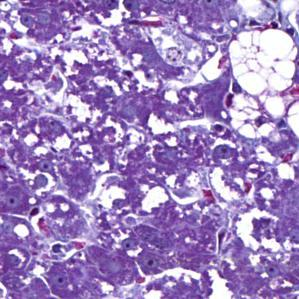ballooning: (226, 27, 297, 99), (228, 92, 288, 141)
